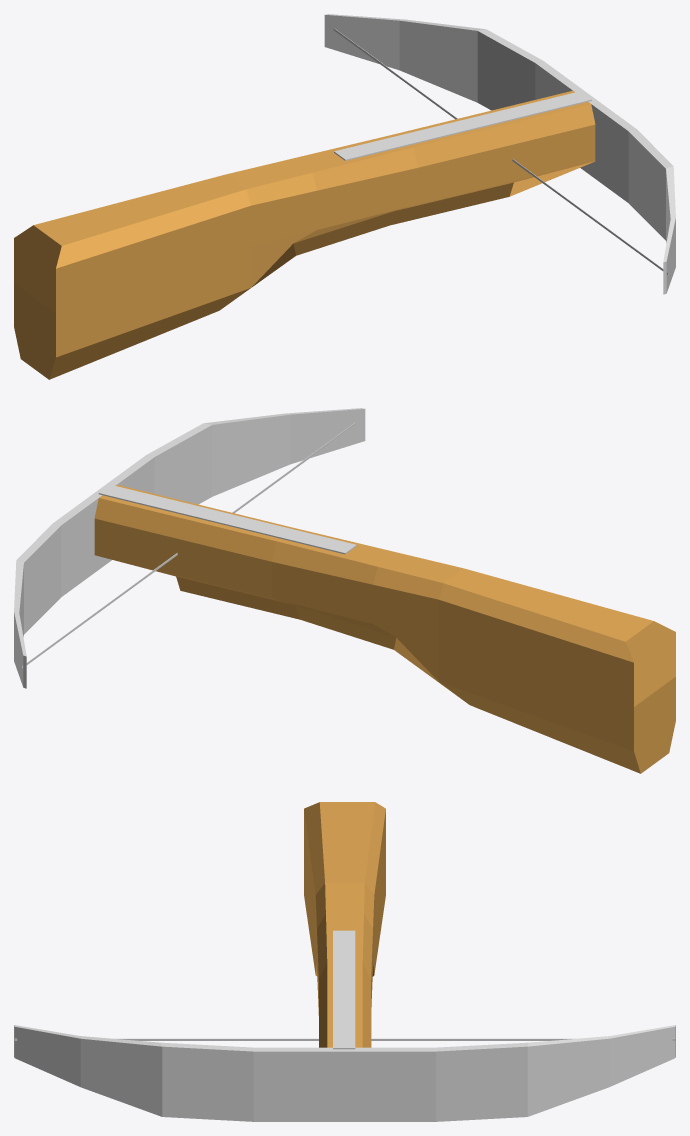
The model's file is CrossBow.glb.
3 views of the same model, one above another, from view 1: azimuth 30°, elevation 25°; view 2: azimuth 150°, elevation 25°; view 3: azimuth 270°, elevation 25° (orthographic). The views are drawn at different scales.
Visible parts, largest first — view 1: Lemn, arc, Cube, Cube.001; view 2: Lemn, arc, Cube, Cube.001; view 3: arc, Lemn, Cube, Cube.001.
Part boxes in pixels (bbox=[...]): Lemn: bbox=[14, 90, 595, 379]; arc: bbox=[324, 14, 675, 294]; Cube: bbox=[334, 91, 591, 160]; Cube.001: bbox=[333, 28, 668, 274]; Lemn: bbox=[94, 484, 675, 773]; arc: bbox=[14, 408, 365, 688]; Cube: bbox=[98, 484, 356, 554]; Cube.001: bbox=[21, 422, 356, 668]; arc: bbox=[14, 1025, 675, 1121]; Lemn: bbox=[304, 802, 385, 1047]; Cube: bbox=[333, 930, 355, 1049]; Cube.001: bbox=[14, 1038, 675, 1040].
Size of the model in its own units: 1.62 by 0.3889 by 1.71.
